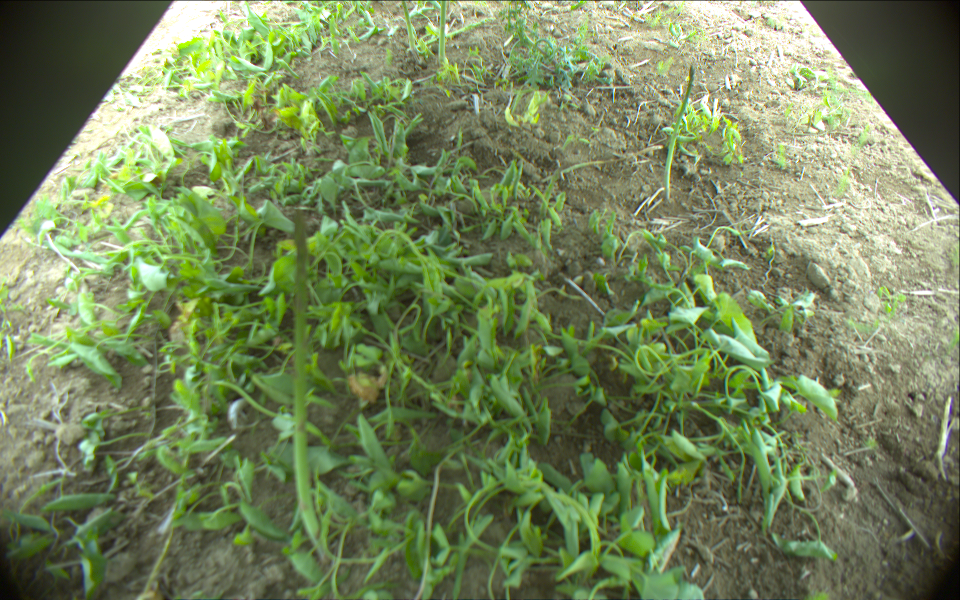aspa: (292, 210, 330, 558), (663, 66, 692, 198), (405, 16, 500, 51), (400, 1, 417, 52), (438, 1, 448, 61)
